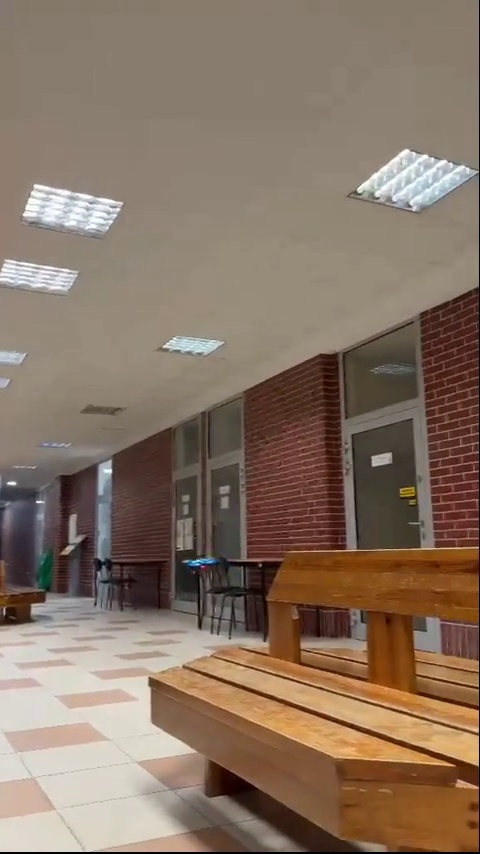drone: (183, 557, 221, 574)
